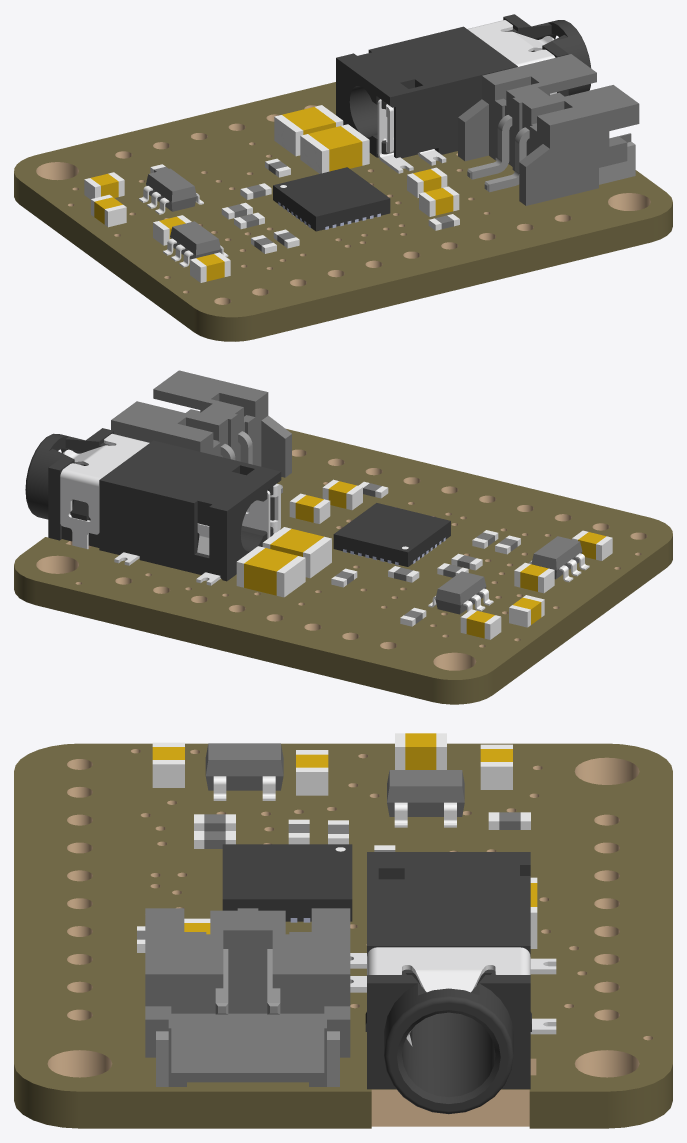
The picture shows the model from 3 angles, top to bottom: view 1: azimuth 30°, elevation 25°; view 2: azimuth 150°, elevation 25°; view 3: azimuth 270°, elevation 25°; orthographic projection. The views are drawn at different scales.
Parts seen in each view (by area): view 1: Board:1, PJ-332A:X3, JSTPH2:X1, TLV320DAC3100:U1, C1210:C1, C1210:C2, SOT23-5:U3, SOT23-5:U2, 0805-NO:C11, 0805-NO:C22, 0805-NO:C3, 0805-NO:C4 (+2 smaller); view 2: Board:1, PJ-332A:X3, JSTPH2:X1, TLV320DAC3100:U1, C1210:C2, C1210:C1, SOT23-5:U3, SOT23-5:U2, 0805-NO:C4, 0805-NO:C19, 0805-NO:C12, 0805-NO:C22 (+2 smaller); view 3: Board:1, PJ-332A:X3, JSTPH2:X1, TLV320DAC3100:U1, SOT23-5:U2, SOT23-5:U3, 0805-NO:C3, 0805-NO:C12, 0805-NO:C11, 0805-NO:C4, 0603-NO:C15, 0603-NO:R9 (+1 smaller).
Part boxes in pixels (x1,y1,x2,y2): Board:1: [14, 82, 672, 341]; PJ-332A:X3: [336, 14, 590, 173]; JSTPH2:X1: [458, 54, 639, 205]; TLV320DAC3100:U1: [273, 167, 390, 231]; C1210:C1: [300, 124, 369, 173]; C1210:C2: [274, 105, 343, 156]; SOT23-5:U3: [139, 168, 203, 214]; SOT23-5:U2: [163, 221, 228, 267]; 0805-NO:C11: [190, 252, 230, 282]; 0805-NO:C22: [419, 186, 459, 216]; 0805-NO:C3: [91, 194, 126, 227]; 0805-NO:C4: [84, 172, 124, 199]; Board:1: [14, 429, 672, 704]; PJ-332A:X3: [25, 428, 281, 585]; JSTPH2:X1: [111, 370, 291, 493]; TLV320DAC3100:U1: [333, 503, 450, 566]; C1210:C2: [236, 546, 305, 597]; C1210:C1: [262, 527, 331, 578]; SOT23-5:U3: [428, 571, 493, 614]; SOT23-5:U2: [529, 536, 589, 582]; 0805-NO:C4: [460, 609, 501, 639]; 0805-NO:C19: [289, 493, 330, 523]; 0805-NO:C12: [514, 562, 554, 593]; 0805-NO:C22: [322, 479, 362, 510]; Board:1: [14, 743, 672, 1128]; PJ-332A:X3: [350, 852, 556, 1114]; JSTPH2:X1: [145, 908, 350, 1086]; TLV320DAC3100:U1: [222, 844, 352, 922]; SOT23-5:U2: [205, 743, 283, 800]; SOT23-5:U3: [387, 770, 464, 827]; 0805-NO:C3: [395, 733, 446, 769]; 0805-NO:C12: [296, 750, 328, 795]; 0805-NO:C11: [152, 742, 184, 787]; 0805-NO:C4: [480, 744, 512, 789]; 0603-NO:C15: [488, 812, 530, 829]; 0603-NO:R9: [194, 814, 235, 831].
Bounding box in the file's own units: 0.0335 × 0.00637 × 0.0254.
